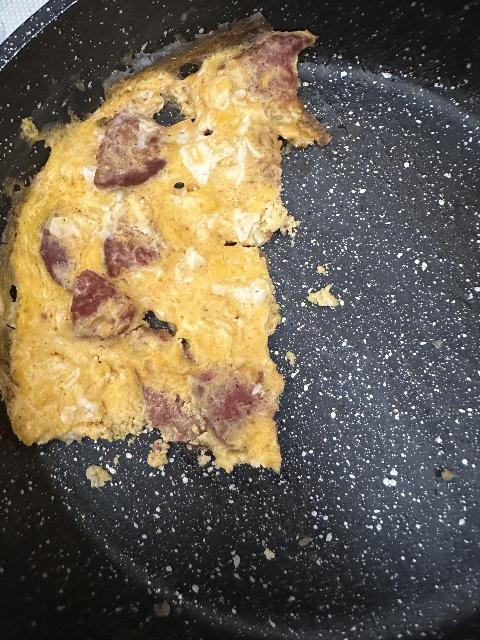Organik: (10, 29, 319, 457), (94, 95, 163, 197), (71, 265, 130, 332), (102, 219, 162, 273), (41, 213, 78, 281)
